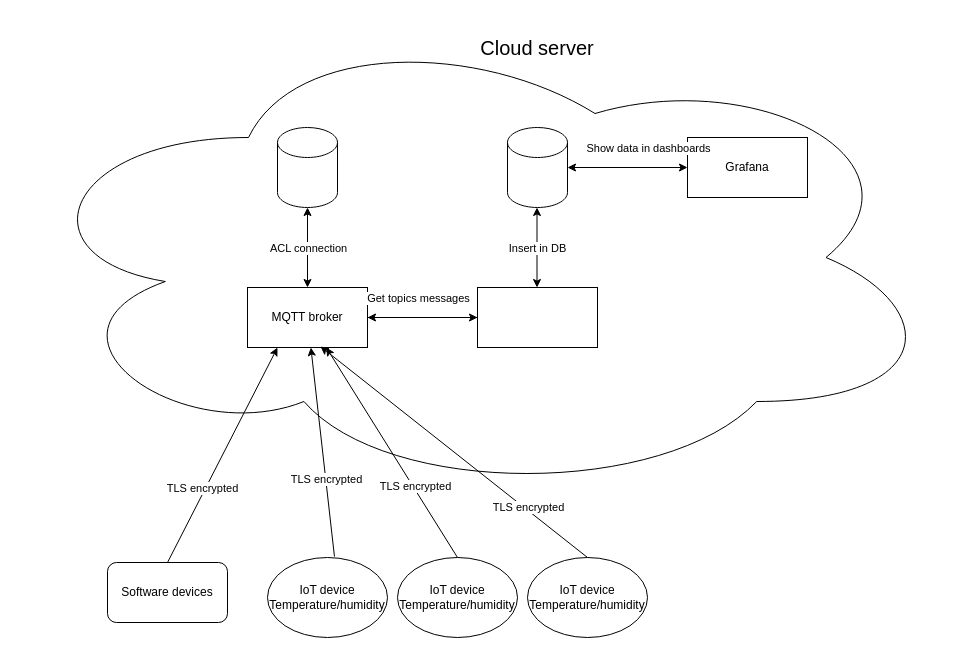
Image size: 959x655. Some labels were removed from this diagram. The shapes that lost their labels are listed below. From the top down, each one's centre as x and y in pixels, then its label:
At (307,167): "Postgresql".
At (537,167): "Mysql".
At (537,317): "Node-red".
